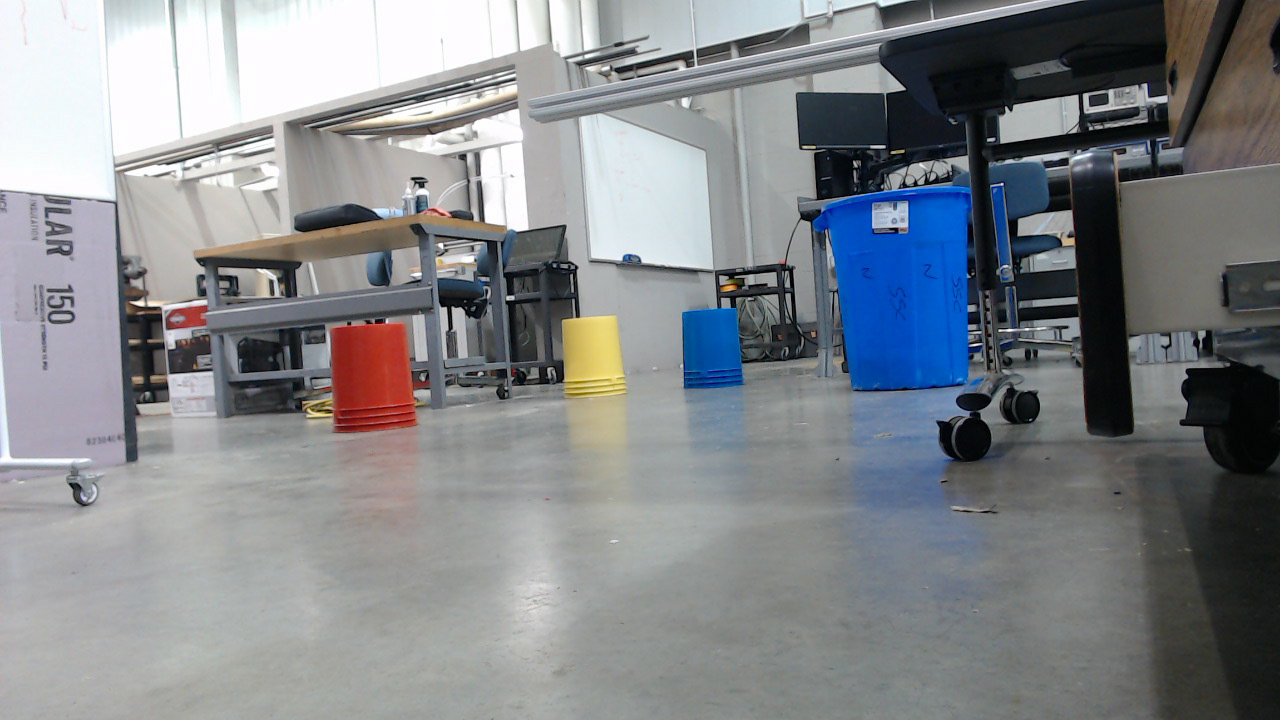blue_bucket: (685, 313, 752, 397)
red_bucket: (333, 327, 425, 441)
yellow_bucket: (564, 318, 636, 408)
